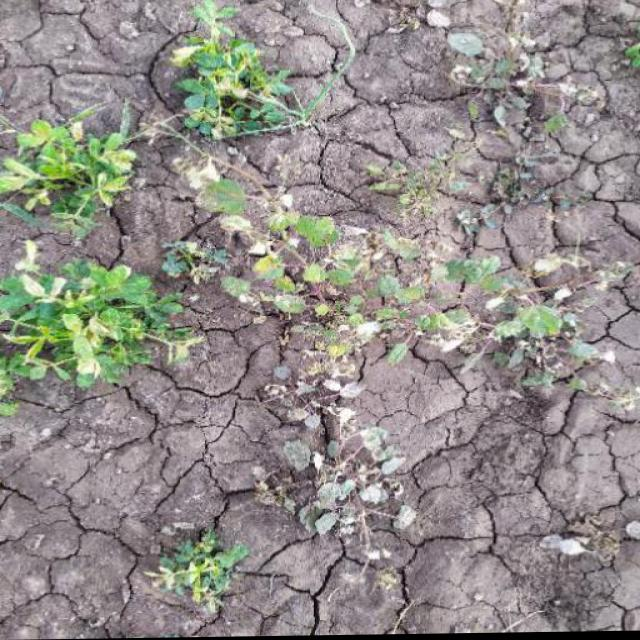weed: (190, 167, 606, 429), (12, 45, 172, 391), (424, 2, 640, 127), (136, 5, 306, 137)
